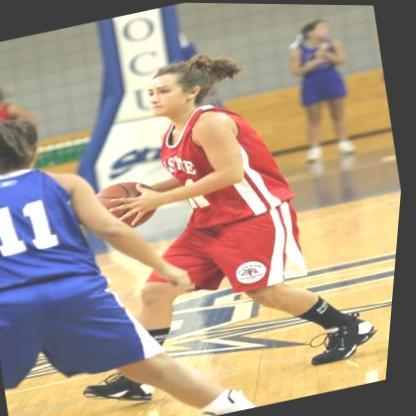basketball: (96, 174, 166, 235)
